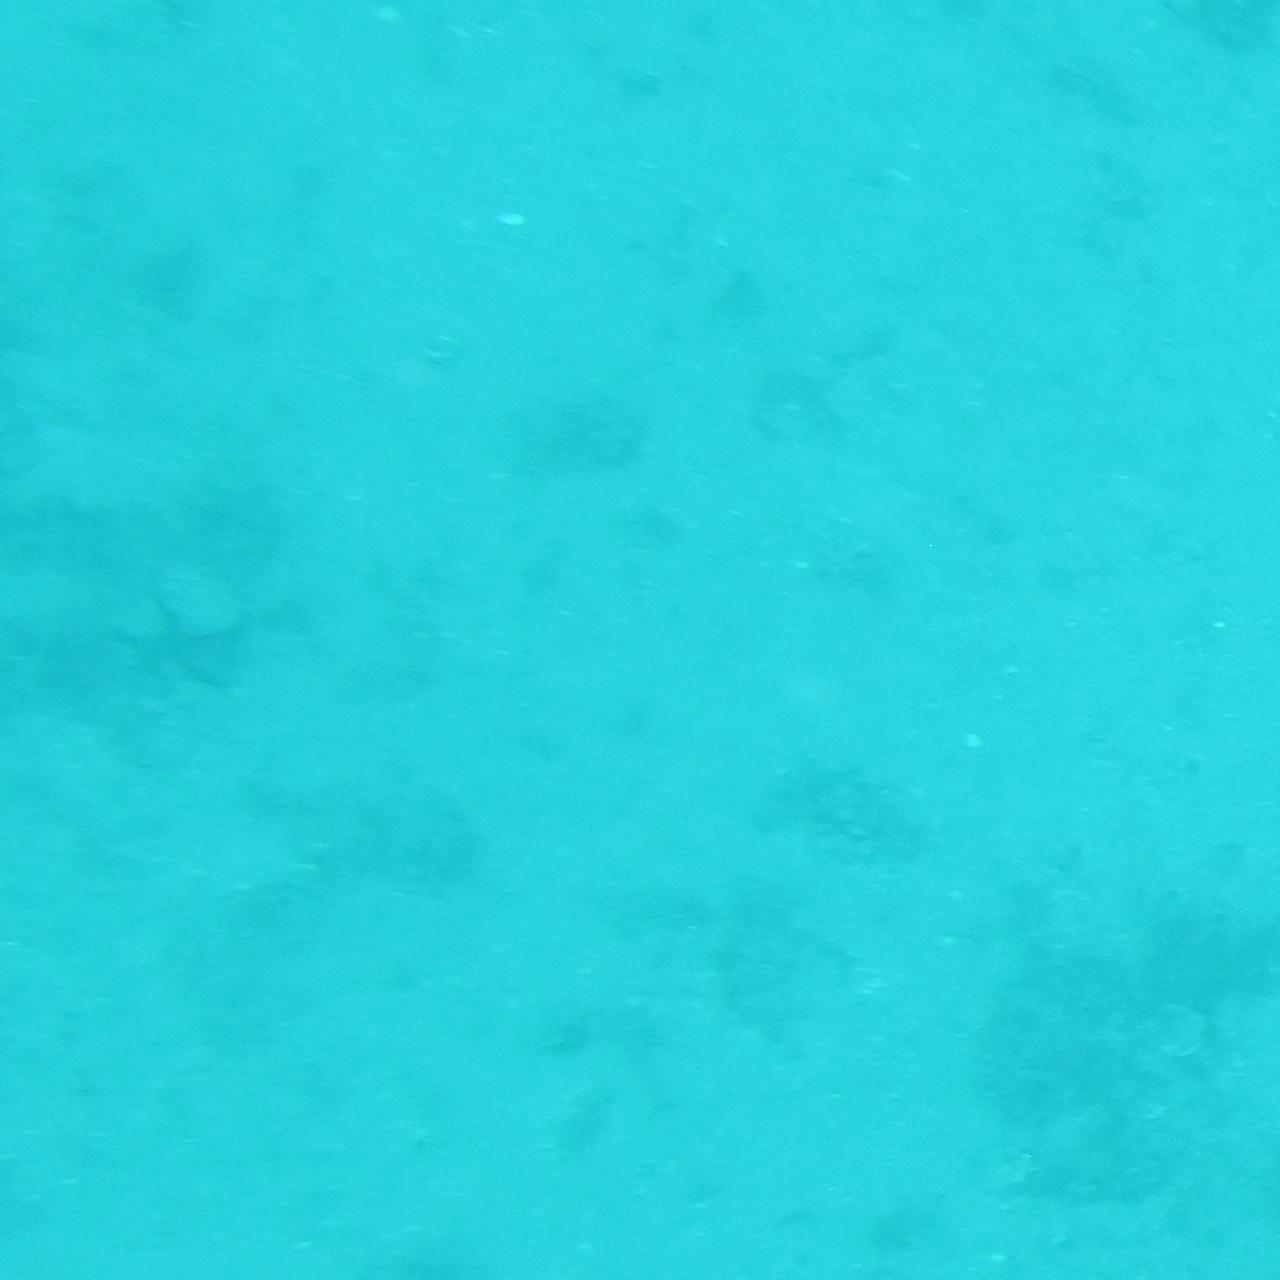Asteroidea: (110, 583, 275, 697)
